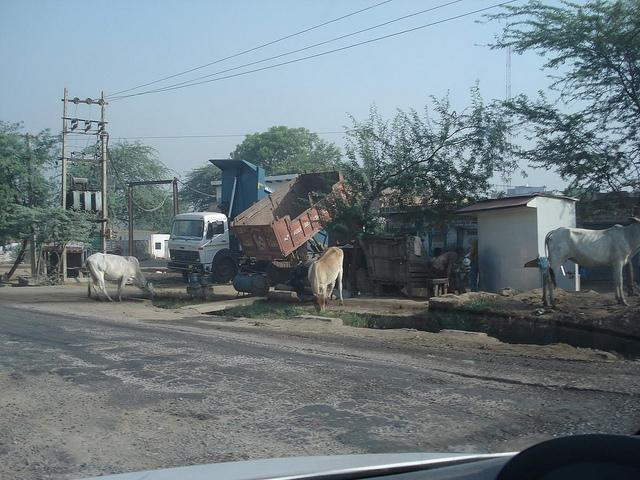car: (146, 428, 640, 470)
truck: (228, 168, 359, 296), (168, 160, 266, 282)
